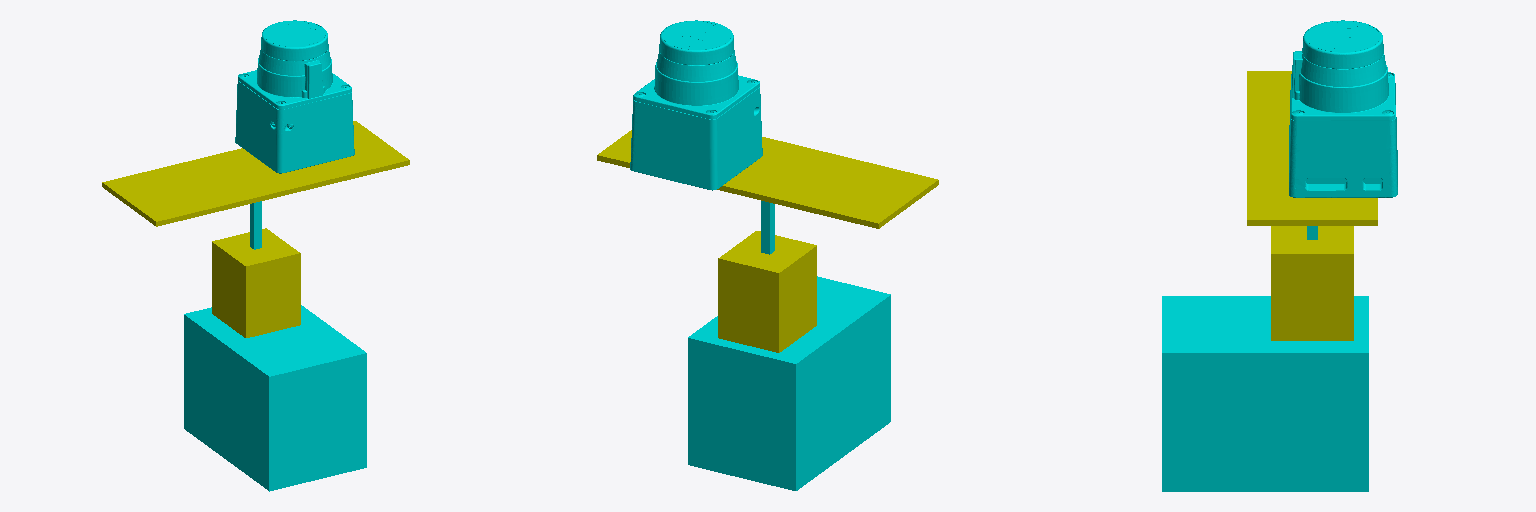
robot.urdf — real_pantilt:
<?xml version="1.0"?>
<!-- 
    Real Pan-Tilt Mechanism URDF
    Based on Gazebo simulation structure
    For use with Arduino-controlled hardware
-->
<robot name="real_pantilt" xmlns:xacro="http://ros.org/wiki/xacro">

    <!-- Base/World reference frame -->
    <link name="map">
        <inertial>
            <mass value="0.001" />
            <origin xyz="0 0 0" rpy="0 0 0" />
            <inertia ixx="0.0001" ixy="0" ixz="0" iyy="0.0001" iyz="0" izz="0.0001" />
        </inertial>
    </link>

    <!-- Base link - mounting point for pan-tilt -->
    <link name="base_link">
        <visual>
            <origin xyz="0.0 -0.05 0.035" rpy="0 0 0" />
            <geometry>
                <box size="0.0625 0.095 0.07" />
            </geometry>
            <material name="Cyan1">
                <color rgba="0 0.9 0.9 1.0" />
            </material>
        </visual>
        <inertial>
            <mass value="1" />
            <origin xyz="0 0 0" rpy="0 0 0" />
            <inertia ixx="0.01" ixy="0" ixz="0" iyy="0.01" iyz="0" izz="0.01" />
        </inertial>
    </link>

    <!-- Map to base_link fixed transform -->
    <joint name="map_to_base" type="fixed">
        <origin xyz="0 0 0" rpy="0 0 0" />
        <parent link="map" />
        <child link="base_link" />
    </joint>

    <!-- Pan link - rotates around Z axis -->
    <link name="pan_link">
        <visual>
            <origin xyz="0 0 0" rpy="0 0 0" />
            <geometry>
                <box size="0.035 0.038 0.044" />
            </geometry>
            <material name="Yellow2">
                <color rgba="0.8 0.8 0 1.0" />
            </material>
        </visual>
        <inertial>
            <mass value="0.50" />
            <origin xyz="0 0 0" rpy="0 0 0" />
            <inertia ixx="0.01" ixy="0" ixz="0" iyy="0.01" iyz="0" izz="0.01" />
        </inertial>
    </link>

    <!-- Pan joint - revolute around Z axis -->
    <!-- Note Arduino uses position[1] for pan, joint name "joint2" -->
    <!-- Axis inverted (0 0 -1) to match encoder direction -->
    <joint name="joint2" type="revolute">
        <parent link="base_link" />
        <child link="pan_link" />
        <origin xyz="0 -0.0285 0.092" rpy="0 0 0" />
        <axis xyz="0 0 -1" />
        <limit effort="10" lower="-3.1416" upper="3.1416" velocity="3" />
        <dynamics damping="1.0" />
    </joint>

    <!-- Tilt link - rotates around Y axis (after 90 degree rotation) -->
    <link name="tilt_link">
        <visual>
            <origin xyz="-0.022 0 0" rpy="0 -1.57 0" />
            <geometry>
                <box size="0.005 0.005 0.044" />
            </geometry>
            <material name="Cyan1">
                <color rgba="0 0.9 0.9 1.0" />
            </material>
        </visual>
        <inertial>
            <mass value="0.20" />
            <origin xyz="0 0 0" rpy="0 0 0" />
            <inertia ixx="0.01" ixy="0" ixz="0" iyy="0.01" iyz="0" izz="0.01" />
        </inertial>
    </link>

    <!-- Tilt joint - revolute around Z axis (which becomes Y after rotation) -->
    <!-- Note Arduino uses position[0] for tilt, joint name "joint1" -->
    <joint name="joint1" type="revolute">
        <parent link="pan_link" />
        <child link="tilt_link" />
        <origin xyz="0 0 0.022" rpy="0 1.57 0" />
        <axis xyz="0 0 1" />
        <limit effort="10" lower="-0.8727" upper="0.8727" velocity="3" />
        <dynamics damping="1.0" />
    </joint>

    <!-- Hokuyo base plate -->
    <link name="hokuyo_base">
        <visual>
            <origin xyz="0 0 0" rpy="0 -1.57 0" />
            <geometry>
                <box size="0.162 0.06 0.003" />
            </geometry>
            <material name="Yellow2">
                <color rgba="0.8 0.8 0 1.0" />
            </material>
        </visual>
        <inertial>
            <mass value="0.10" />
            <origin xyz="0 0 0" rpy="0 0 0" />
            <inertia ixx="0.01" ixy="0" ixz="0" iyy="0.01" iyz="0" izz="0.01" />
        </inertial>
    </link>

    <!-- Hokuyo base mounting -->
    <joint name="hokuyo_base_joint" type="fixed">
        <parent link="tilt_link" />
        <child link="hokuyo_base" />
        <origin xyz="-0.0450 0 0" rpy="0 0 0" />
        <dynamics damping="1.0" />
    </joint>

    <!-- Hokuyo sensor link -->
    <!-- Note Using "laser" as link name to match the Hokuyo node's published frame_id -->
    <link name="laser">
        <visual>
            <origin xyz="0.0 0.0 -0.059" rpy="1.57 0 0" />
            <geometry>
                <!-- <box size="0.05 0.05 0.07" /> -->
                <!-- <mesh filename="package://ptu_lidar_calib/urdf/meshes/URG-04LX.dae" scale="0.001 0.001 0.001" /> -->
                <mesh filename="./meshes/URG-04LX.dae" scale="0.001 0.001 0.001" />
            
            </geometry>
            <material name="Cyan1">
                <color rgba="0 0.9 0.9 1.0" />
            </material>
        </visual>
        <inertial>
            <mass value="0.16" />
            <origin xyz="0 0 0" rpy="0 0 0" />
            <inertia ixx="0.001" ixy="0" ixz="0" iyy="0.001" iyz="0" izz="0.001" />
        </inertial>
    </link>

    <!-- Hokuyo sensor mounting with proper orientation -->
    <joint name="hokuyo_joint" type="fixed">
        <origin xyz="-0.061 0.0140 0.033" rpy="1.57 3.14 -1.57" />
        <parent link="hokuyo_base" />
        <child link="laser" />
        <dynamics damping="1.0" />
    </joint>

</robot>

--- Render facts (derived) ---
3 views of the same robot in one strip: view 1: azimuth 30°, elevation 25°; view 2: azimuth 150°, elevation 25°; view 3: azimuth 270°, elevation 25° (orthographic).
Robot: real_pantilt — 6 links, 5 joints (2 revolute, 3 fixed); root link map; default pose: all joints at 0.
Links seen in each view (by area): view 1: base_link, laser, hokuyo_base, pan_link, tilt_link; view 2: base_link, laser, hokuyo_base, pan_link, tilt_link; view 3: base_link, laser, pan_link, hokuyo_base.
Boxes of the visible links, bbox=[...] form: base_link: bbox=[184, 305, 366, 491]; laser: bbox=[235, 20, 354, 173]; hokuyo_base: bbox=[102, 121, 409, 226]; pan_link: bbox=[212, 228, 300, 337]; tilt_link: bbox=[250, 201, 261, 249]; base_link: bbox=[688, 276, 890, 490]; laser: bbox=[630, 20, 762, 190]; hokuyo_base: bbox=[597, 130, 938, 228]; pan_link: bbox=[718, 231, 816, 352]; tilt_link: bbox=[761, 201, 774, 254]; base_link: bbox=[1162, 296, 1368, 491]; laser: bbox=[1289, 20, 1397, 197]; pan_link: bbox=[1271, 226, 1353, 340]; hokuyo_base: bbox=[1247, 71, 1377, 225].
Size in the robot's own frame: 0.162 by 0.1081 by 0.2311 metres.
1 mesh visuals loaded from 1 distinct referenced files (1 Collada DAE).